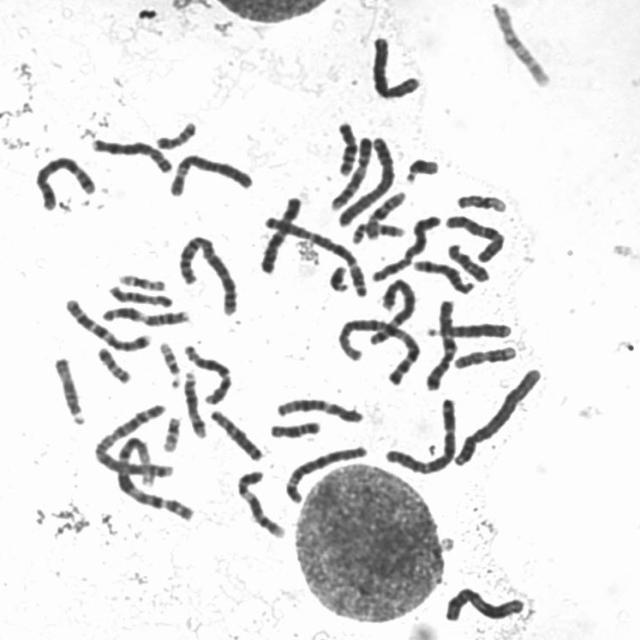A1: (116, 435, 198, 523), (336, 318, 420, 384)
A2: (93, 403, 173, 478), (179, 235, 240, 318)
A3: (264, 217, 368, 299), (383, 398, 455, 476)
B4: (453, 364, 543, 468), (336, 136, 396, 228)
B5: (27, 152, 96, 218), (367, 279, 416, 345)
C10: (489, 7, 551, 89), (445, 215, 506, 262)
C11: (441, 586, 528, 627), (101, 306, 191, 328)
C12: (182, 343, 233, 407), (269, 395, 365, 423)
C6: (285, 444, 367, 504), (167, 154, 253, 196)
C7: (64, 299, 152, 351), (425, 298, 457, 392)
C8: (370, 36, 422, 104), (92, 138, 172, 173)
C9: (230, 468, 284, 544), (330, 136, 373, 214)
D13: (208, 409, 265, 463), (427, 323, 513, 340)
D14: (413, 260, 475, 294), (182, 369, 208, 438)
D15: (50, 354, 85, 432), (106, 286, 172, 307)
E16: (366, 190, 407, 241), (333, 122, 358, 176)
E17: (452, 345, 517, 370), (350, 222, 405, 246)
E18: (446, 244, 491, 282), (270, 421, 323, 441)
F19: (454, 195, 511, 216), (117, 275, 167, 292)
F20: (94, 346, 133, 387), (157, 120, 198, 150)
G21: (404, 156, 443, 188), (328, 266, 351, 295)
G22: (156, 342, 182, 388), (162, 415, 182, 455)
X: (371, 215, 442, 283), (261, 196, 304, 275)
